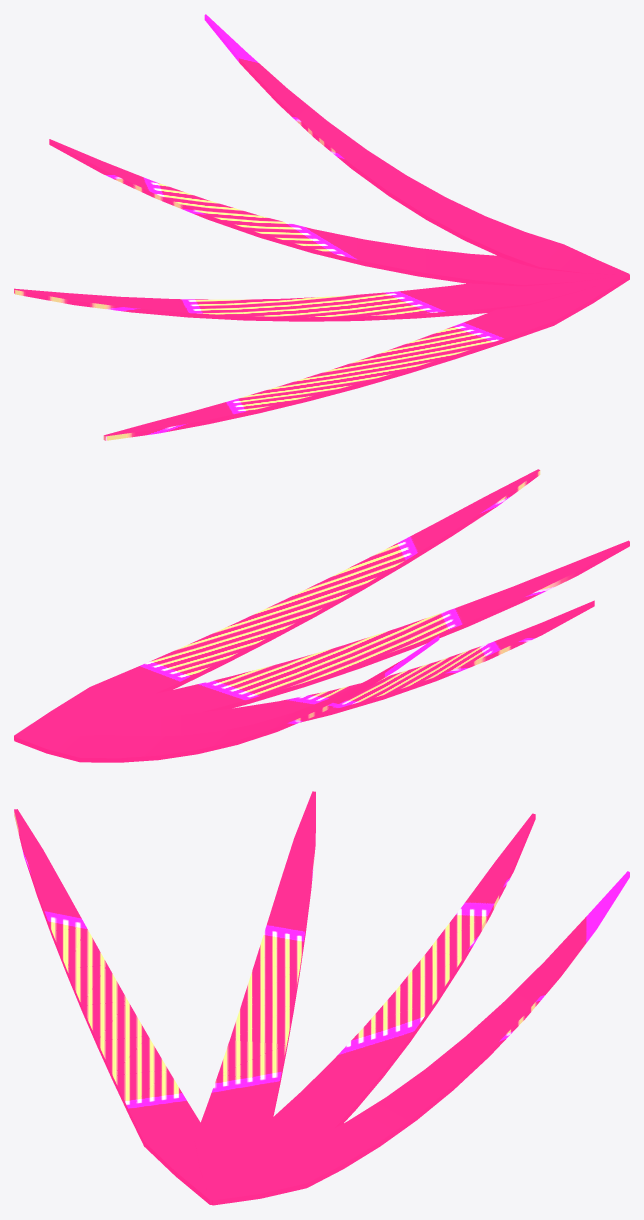
The model's file is WING_L.glb.
3 renders of one model, top to bottom at view 1: azimuth 30°, elevation 25°; view 2: azimuth 210°, elevation 25°; view 3: azimuth 270°, elevation 25°, orthographic. The views are drawn at different scales.
Visible parts, largest first — view 1: WING_L_03; view 2: WING_L_03; view 3: WING_L_03.
Boxes of the visible parts, x1,y1,x2,y2 form: WING_L_03: [14, 14, 629, 440]; WING_L_03: [14, 469, 629, 762]; WING_L_03: [14, 791, 629, 1205].
Bounding box in the file's own units: 4.28 × 1.23 × 3.35.
1 material, 1 textured.
